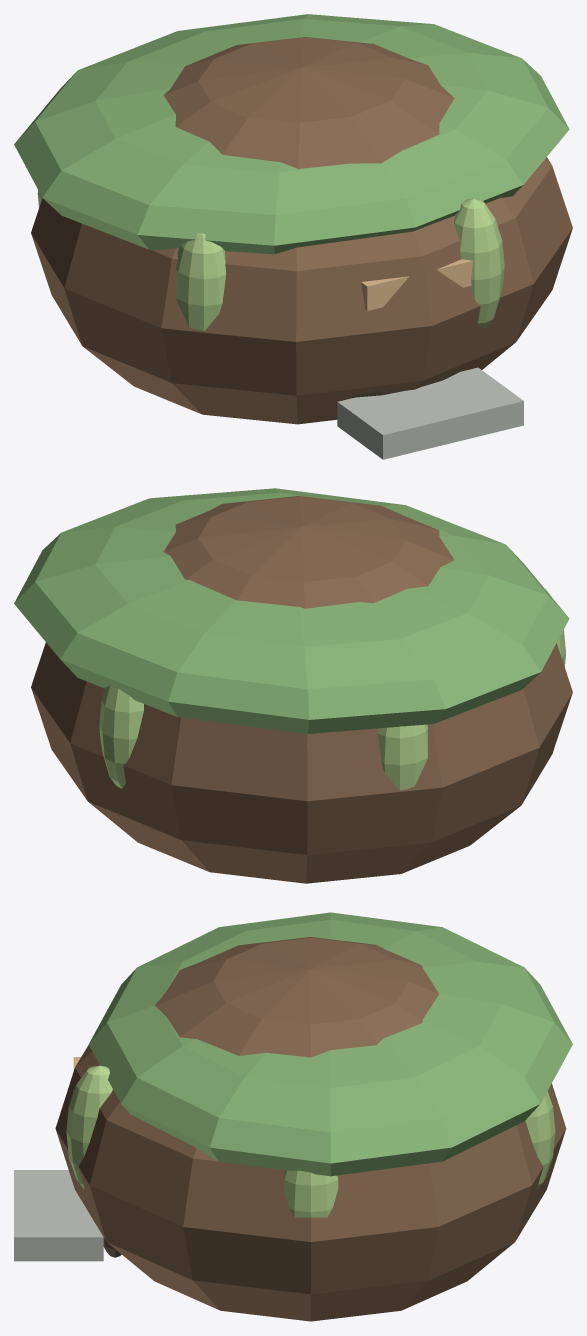
The model's file is AntBurrow.fbx.
3 views of the same model, one above another, from view 1: azimuth 30°, elevation 25°; view 2: azimuth 150°, elevation 25°; view 3: azimuth 270°, elevation 25° (orthographic). The views are drawn at different scales.
Parts seen in each view (by area): view 1: Grassy earth mound, Moss roof, Small doorstep, Tiny grass sprout.004, Tiny grass sprout.003, Entrance lintel; view 2: Grassy earth mound, Moss roof, Tiny grass sprout.001, Tiny grass sprout.002; view 3: Grassy earth mound, Moss roof, Small doorstep, Tiny grass sprout.004, Tiny grass sprout, Tiny grass sprout.001.
Boxes of the visible parts, left/top/right/bottom form: Grassy earth mound: left=31, top=37, right=572, bottom=424; Moss roof: left=14, top=14, right=569, bottom=254; Small doorstep: left=337, top=367, right=523, bottom=459; Tiny grass sprout.004: left=454, top=198, right=504, bottom=329; Tiny grass sprout.003: left=176, top=233, right=226, bottom=331; Entrance lintel: left=361, top=259, right=472, bottom=310; Grassy earth mound: left=31, top=496, right=572, bottom=883; Moss roof: left=14, top=488, right=569, bottom=733; Tiny grass sprout.001: left=99, top=685, right=143, bottom=788; Tiny grass sprout.002: left=377, top=724, right=427, bottom=790; Grassy earth mound: left=55, top=937, right=566, bottom=1321; Moss roof: left=88, top=912, right=572, bottom=1176; Small doorstep: left=14, top=1170, right=103, bottom=1261; Tiny grass sprout.004: left=66, top=1065, right=112, bottom=1189; Tiny grass sprout: left=283, top=1170, right=338, bottom=1217; Tiny grass sprout.001: left=525, top=1091, right=555, bottom=1189.
Bounding box in the file's own units: 170 × 106 × 169.
